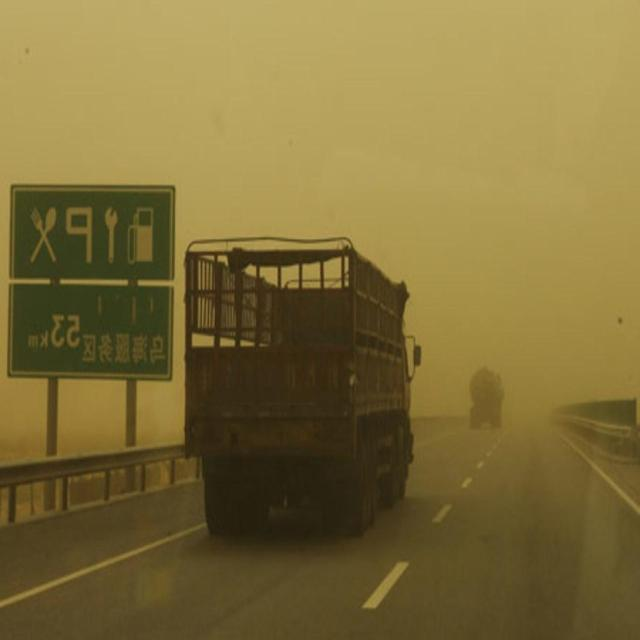Truck: (180, 236, 421, 535), (466, 366, 506, 432)
